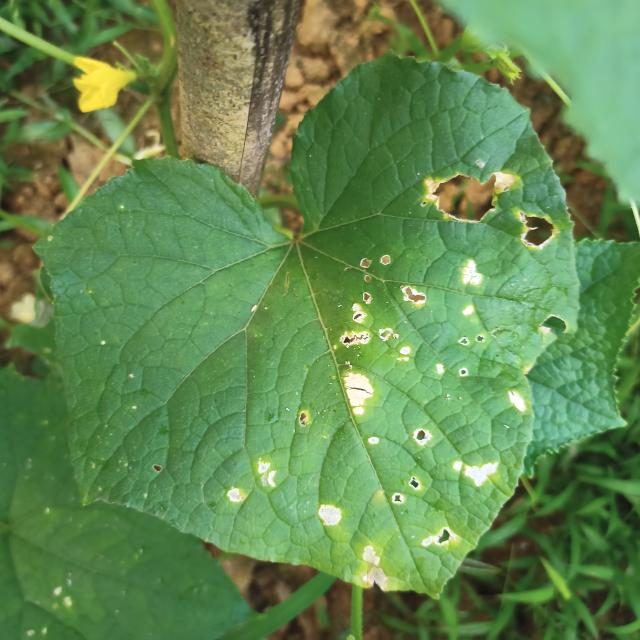disease_cucumber: (334, 253, 425, 349), (416, 168, 519, 226), (222, 457, 278, 507), (338, 366, 376, 423), (512, 213, 560, 254), (448, 456, 502, 489), (363, 545, 387, 592), (388, 477, 422, 508), (459, 255, 487, 289), (422, 524, 456, 552), (502, 389, 528, 417), (318, 500, 342, 528), (408, 427, 431, 444)
